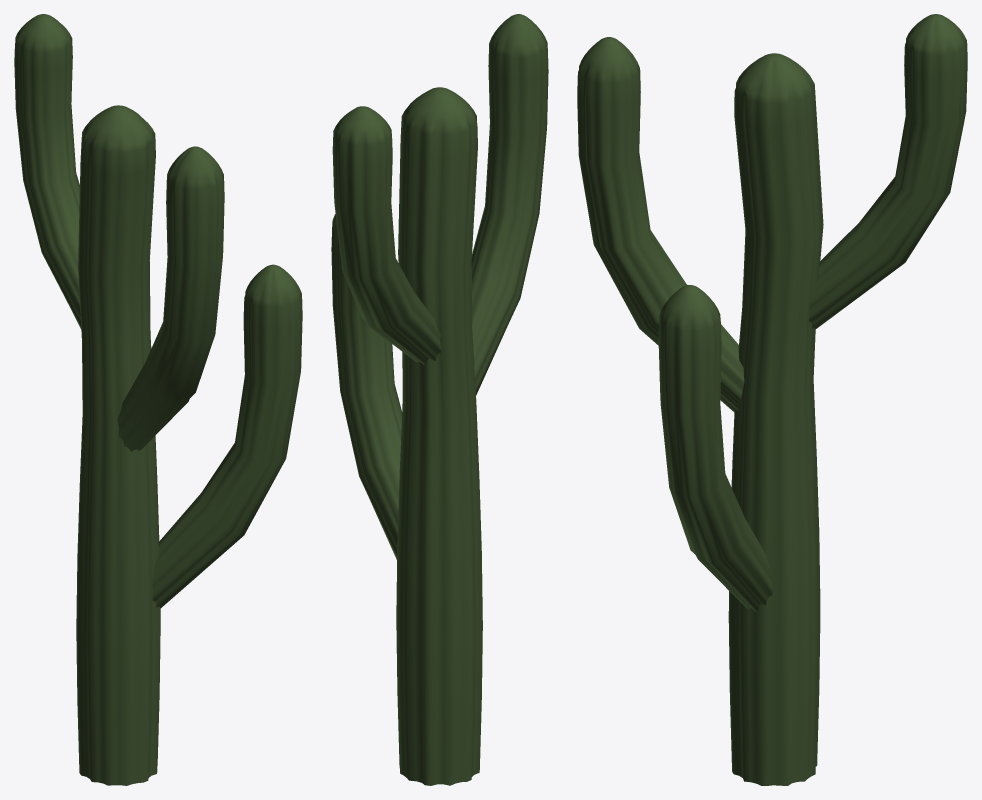
Rendered from Cactus_3.fbx.
3 renders of one model, left to right at view 1: azimuth 30°, elevation 25°; view 2: azimuth 150°, elevation 25°; view 3: azimuth 270°, elevation 25°, orthographic. The views are drawn at different scales.
Visible parts, largest first — view 1: polySurface3; view 2: polySurface3; view 3: polySurface3.
Boxes of the visible parts, x1,y1,x2,y2 form: polySurface3: [14, 14, 302, 785]; polySurface3: [331, 14, 548, 785]; polySurface3: [577, 14, 967, 785].
Bounding box in the file's own units: 1.22 × 4.6 × 2.16.
